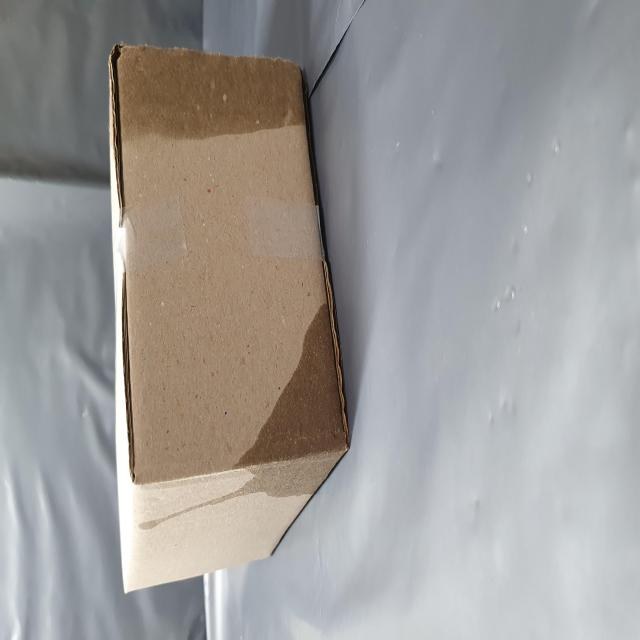wet: (261, 205, 347, 582), (67, 416, 197, 633)
